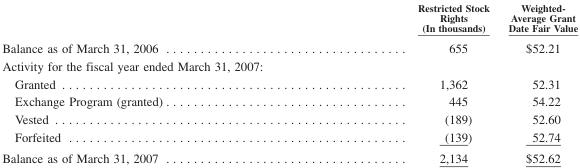table: (1, 1, 577, 165)
table column: (1, 1, 289, 165), (289, 1, 498, 165), (498, 1, 577, 165)
table column header: (1, 1, 577, 37)
table projected row header: (1, 56, 577, 74)
table row: (1, 1, 577, 37), (1, 127, 577, 147), (1, 37, 577, 56), (1, 56, 577, 74), (1, 74, 577, 92), (1, 109, 577, 127), (1, 147, 577, 165), (1, 92, 577, 109)
